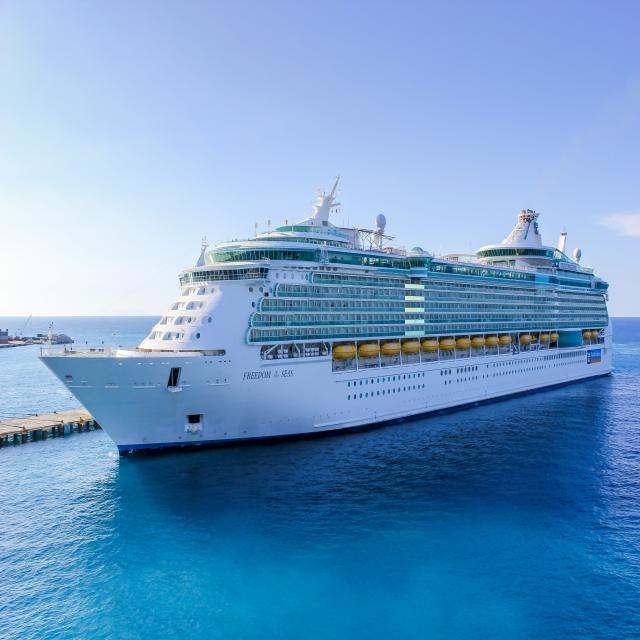Cruise: (41, 186, 611, 453)
